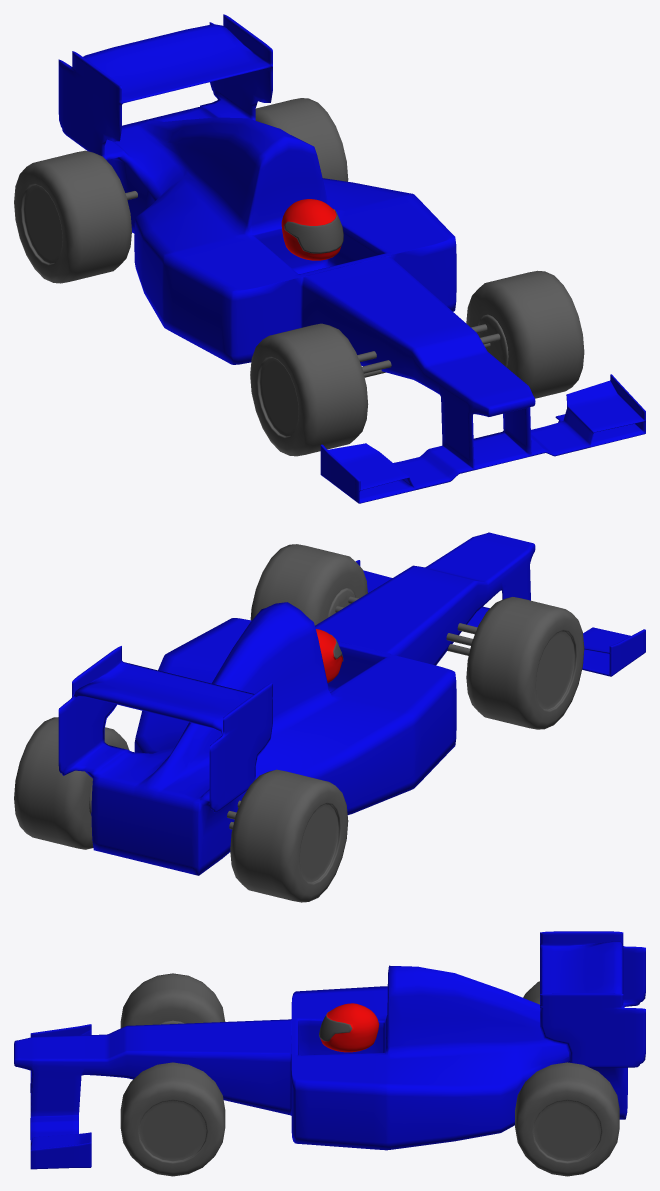
Rendered from rbr.fbx.
3 renders of one model, top to bottom at view 1: azimuth 30°, elevation 25°; view 2: azimuth 150°, elevation 25°; view 3: azimuth 270°, elevation 25°, orthographic. The views are drawn at different scales.
Parts seen in each view (by area): view 1: Carro04; view 2: Carro04; view 3: Carro04.
Boxes of the visible parts, x1=… form: Carro04: x1=14, y1=14, x2=645, y2=503; Carro04: x1=14, y1=532, x2=645, y2=902; Carro04: x1=14, y1=931, x2=645, y2=1176.
Bounding box in the file's own units: 4.19 × 2.63 × 9.42.
